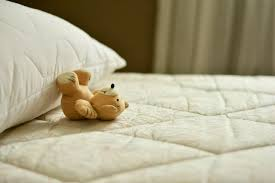bed-matress: (1, 70, 274, 183)
